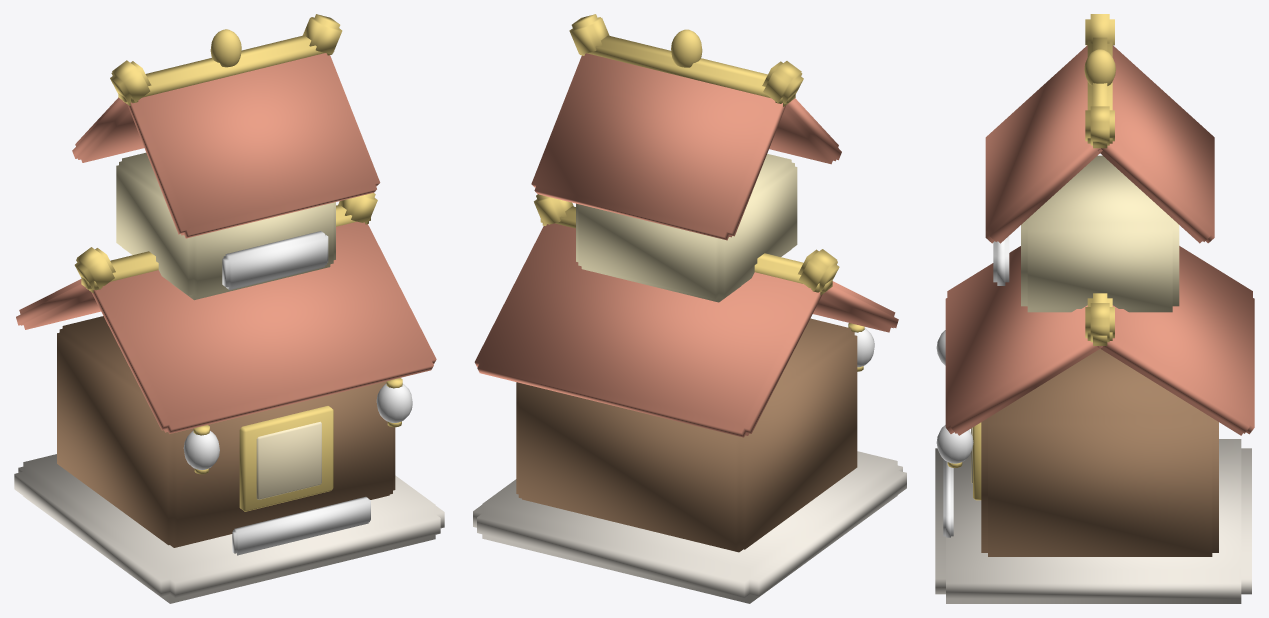
The model's file is lvl2_hue.glb.
3 views of the same model, side by side, from view 1: azimuth 30°, elevation 25°; view 2: azimuth 150°, elevation 25°; view 3: azimuth 270°, elevation 25° (orthographic).
Visible parts, largest first — view 1: lvl2_hue; view 2: lvl2_hue; view 3: lvl2_hue.
Part boxes in pixels (box(x1,y1,x2,y2)): lvl2_hue: box(14, 14, 444, 603); lvl2_hue: box(473, 14, 906, 603); lvl2_hue: box(935, 14, 1254, 603).
Bounding box in the file's own units: 0.5183 × 0.817 × 0.4843.
